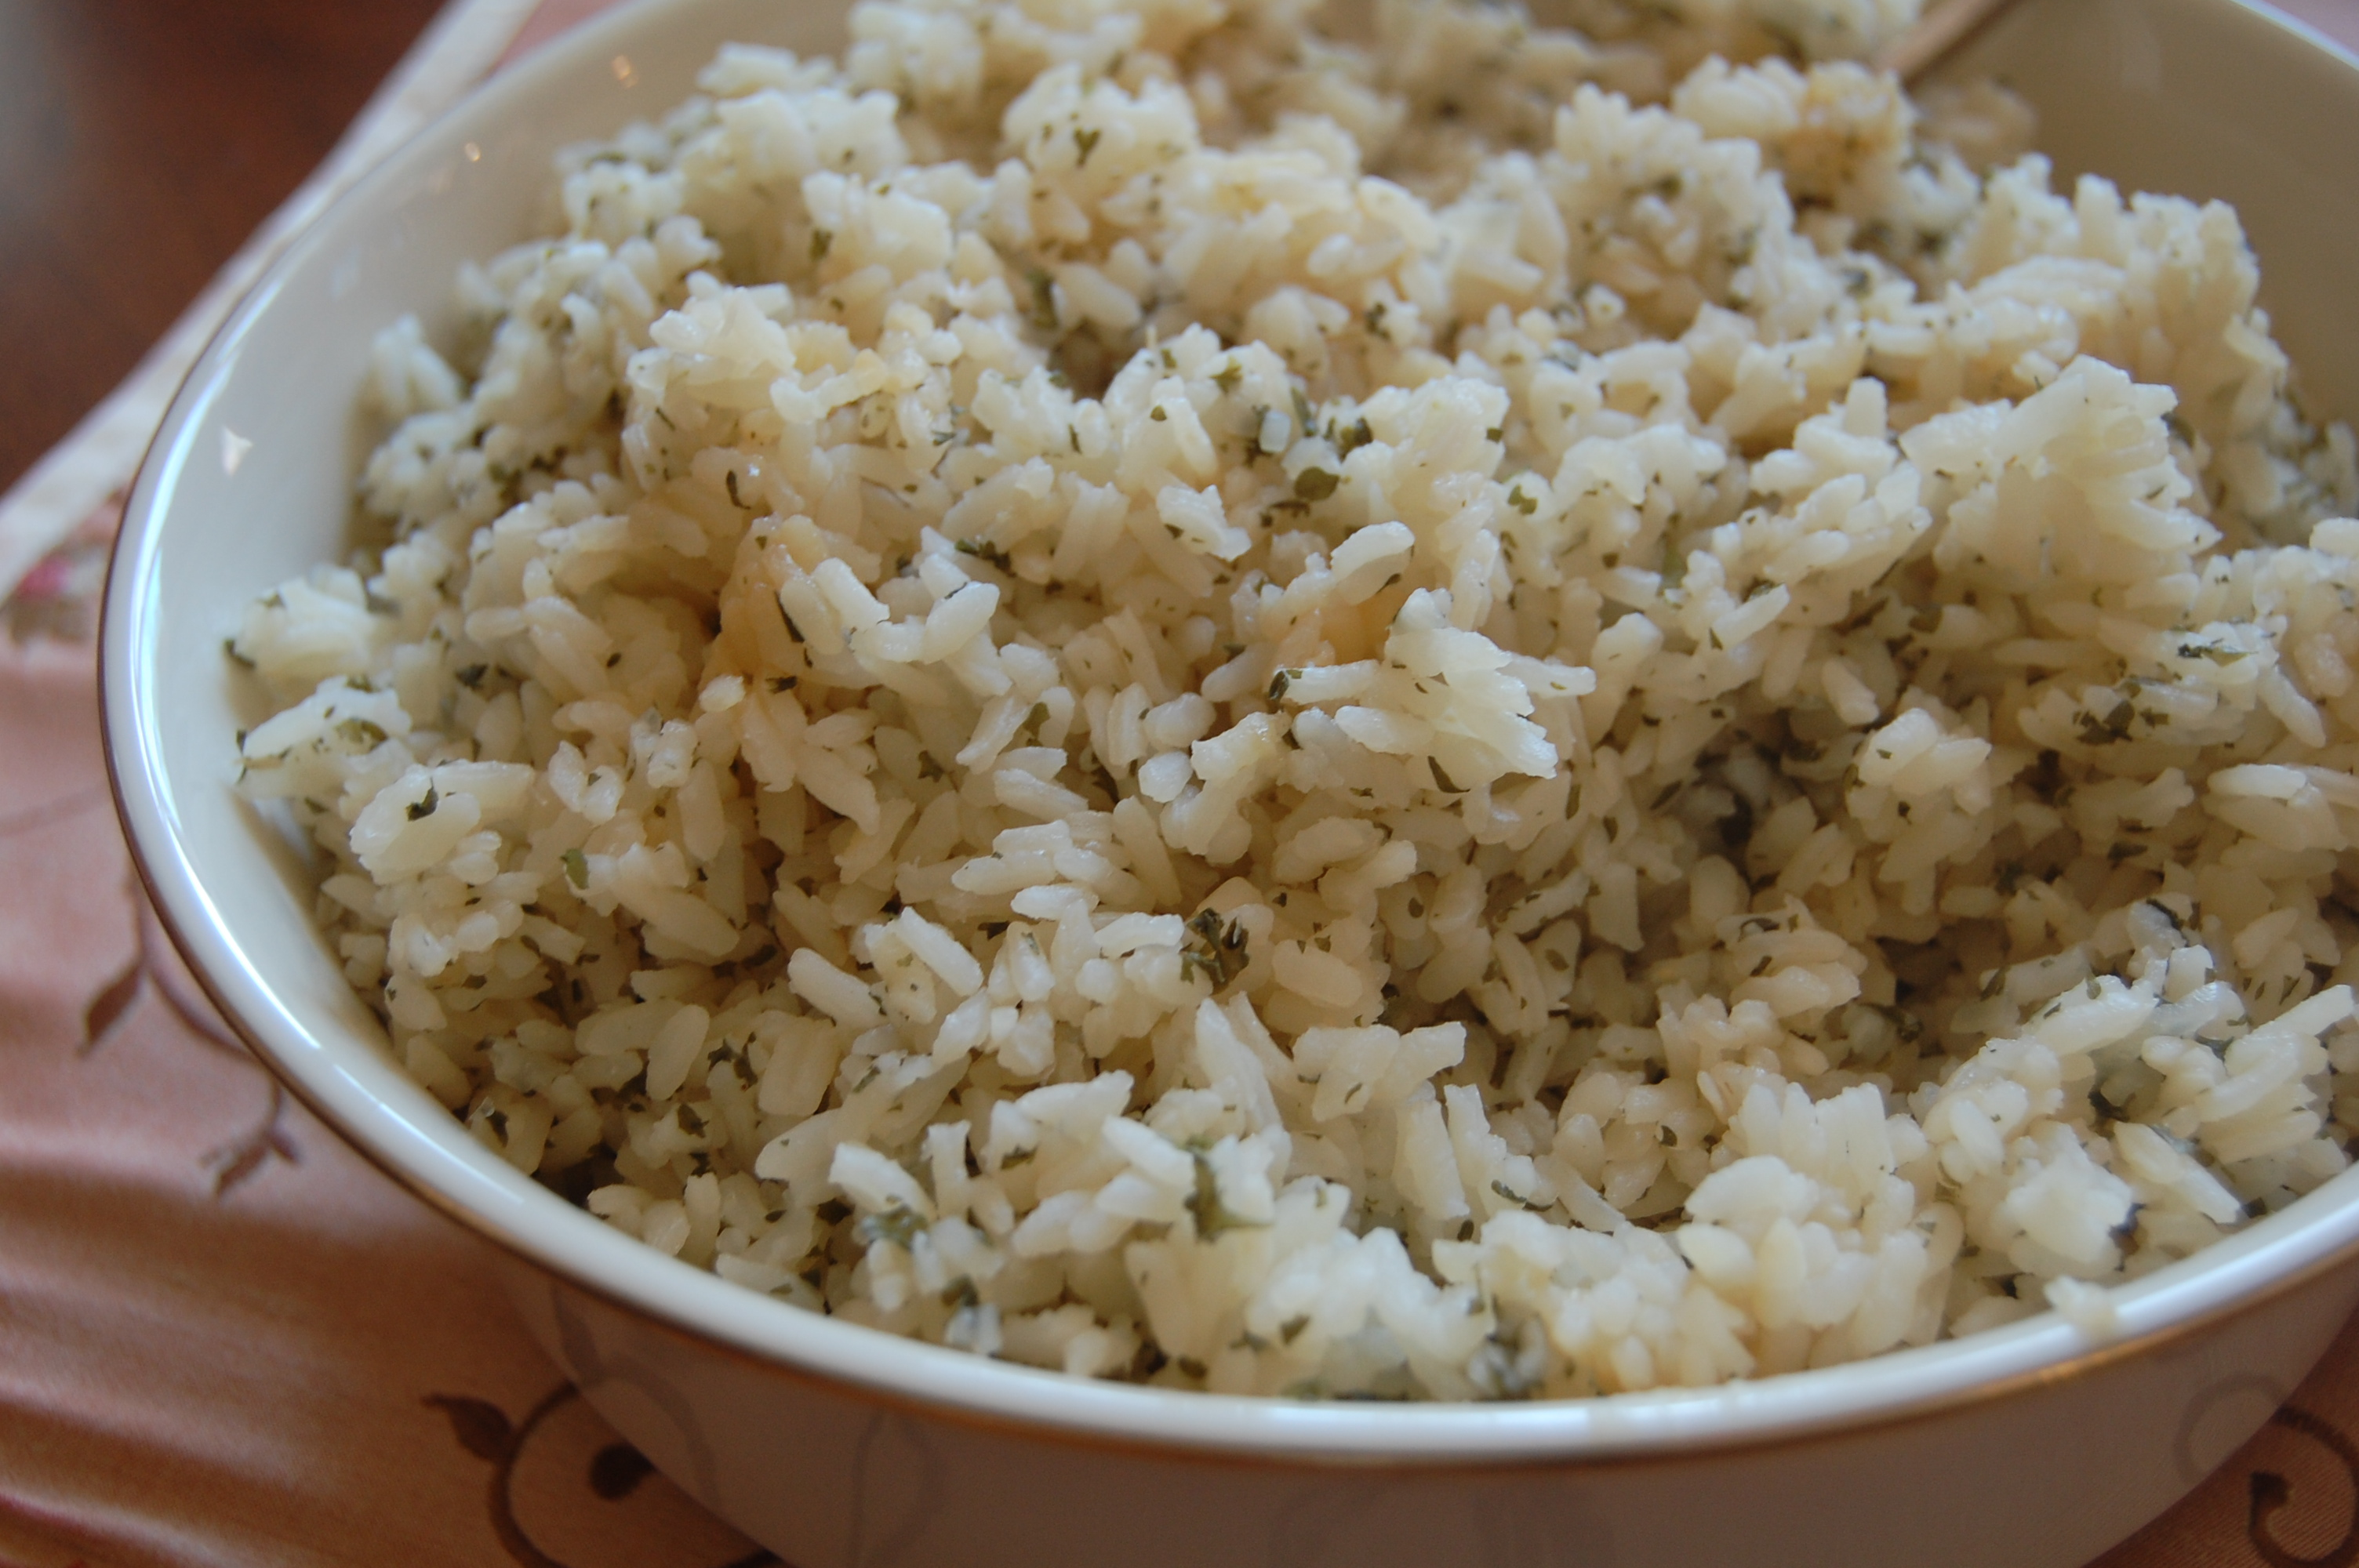plain rice: (345, 7, 2338, 1353)
